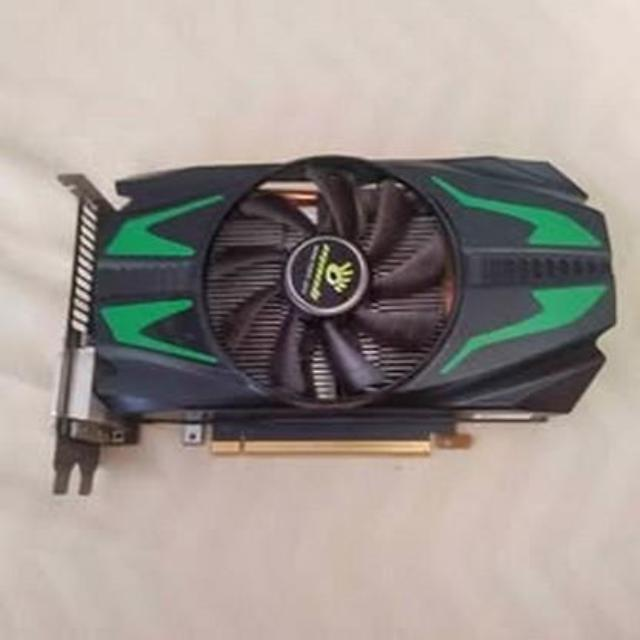GPU: (49, 164, 617, 450)
